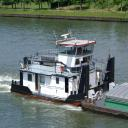tugboat: (10, 34, 117, 110)
